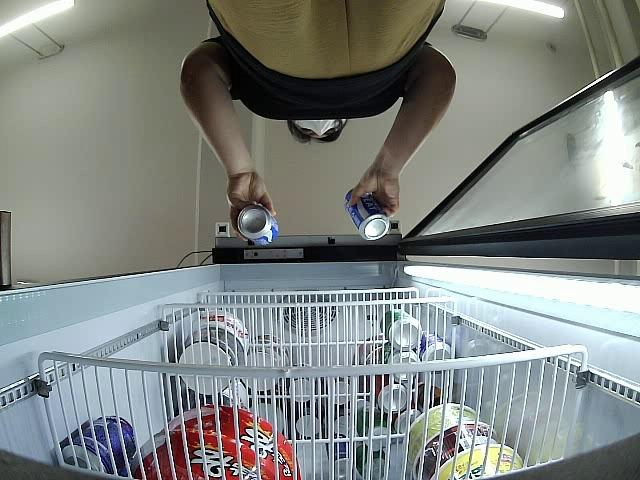00_hand: (226, 175, 277, 242), (347, 162, 402, 219)
13_pocariSweat: (345, 186, 389, 241), (237, 204, 277, 248)
